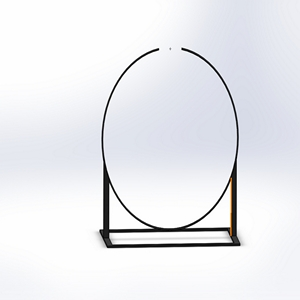circle: (97, 44, 241, 249)
